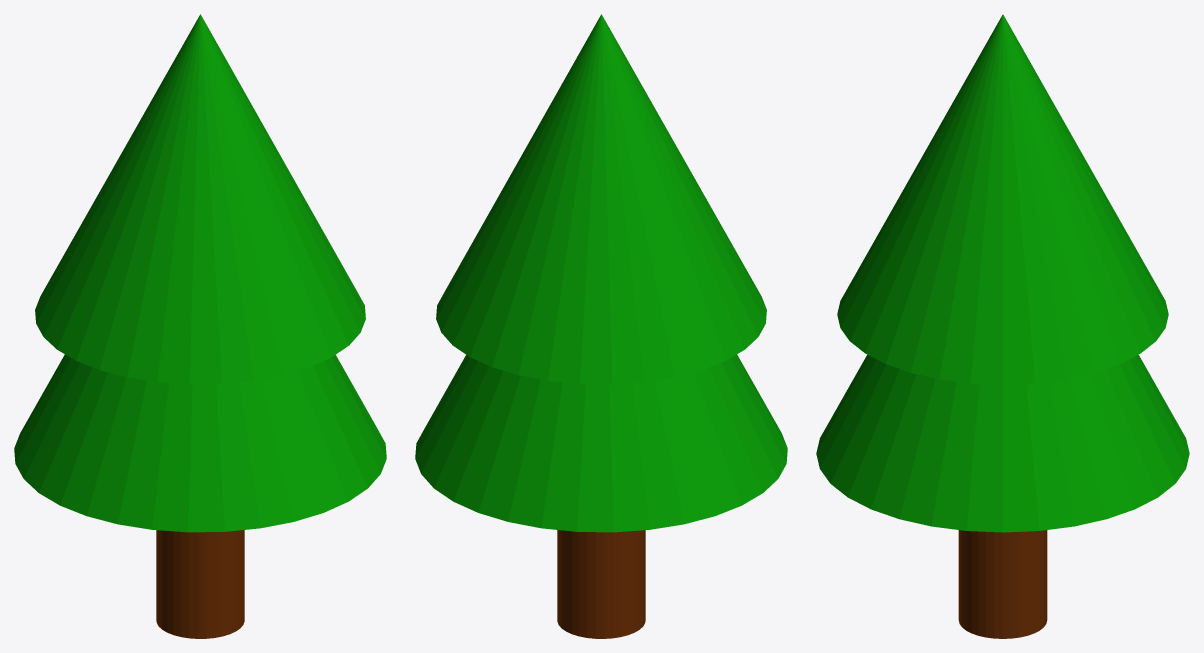
The model's file is PineTree.glb.
3 views of the same model, side by side, from view 1: azimuth 30°, elevation 25°; view 2: azimuth 150°, elevation 25°; view 3: azimuth 270°, elevation 25° (orthographic).
Visible parts, largest first — view 1: Cone, Cone.001, Cylinder; view 2: Cone, Cone.001, Cylinder; view 3: Cone, Cone.001, Cylinder.
Part boxes in pixels (x1,y1,x2,y2): Cone: (35,14,365,384); Cone.001: (14,354,386,532); Cylinder: (156,530,244,638); Cone: (436,14,766,384); Cone.001: (415,354,787,532); Cylinder: (557,530,645,638); Cone: (837,14,1168,384); Cone.001: (816,355,1189,532); Cylinder: (958,530,1047,638).
Bounding box in the file's own units: 5.71 × 10.24 × 5.71.
